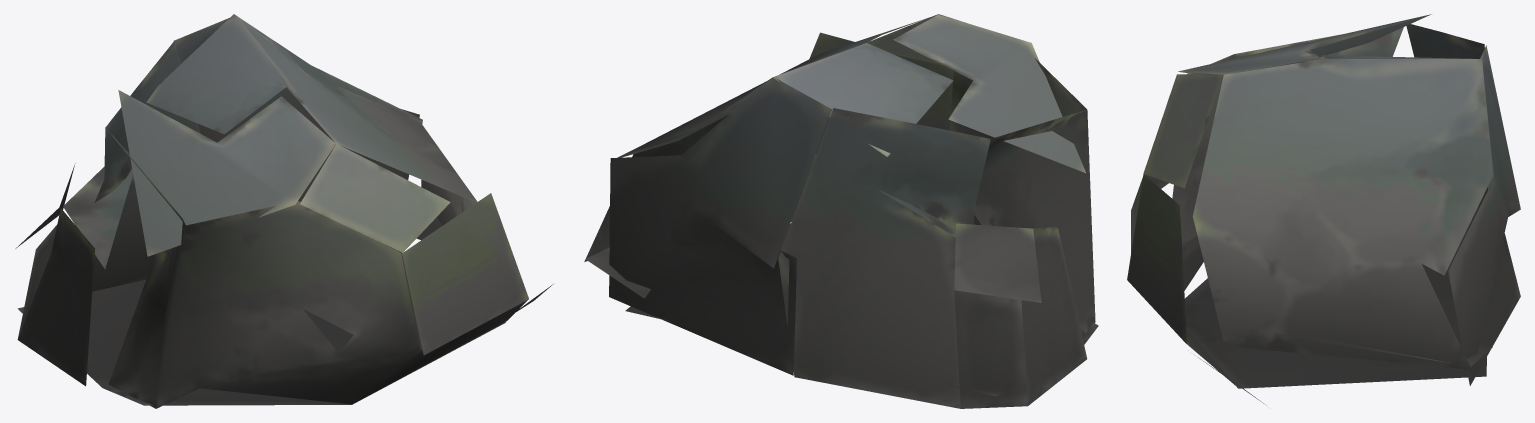
The model's file is rock_cluster_lod2.gltf.
The picture shows the model from 3 angles, left to right: view 1: azimuth 30°, elevation 25°; view 2: azimuth 150°, elevation 25°; view 3: azimuth 270°, elevation 25°; orthographic projection. The views are drawn at different scales.
Parts seen in each view (by area): view 1: rock_cluster.001; view 2: rock_cluster.001; view 3: rock_cluster.001.
Part boxes in pixels (x1,y1,x2,y2): rock_cluster.001: (15, 14, 553, 408); rock_cluster.001: (584, 14, 1098, 408); rock_cluster.001: (1127, 14, 1520, 405).
Size of the model in its own units: 2.14 by 1.22 by 1.61.
1 material, 1 textured.
